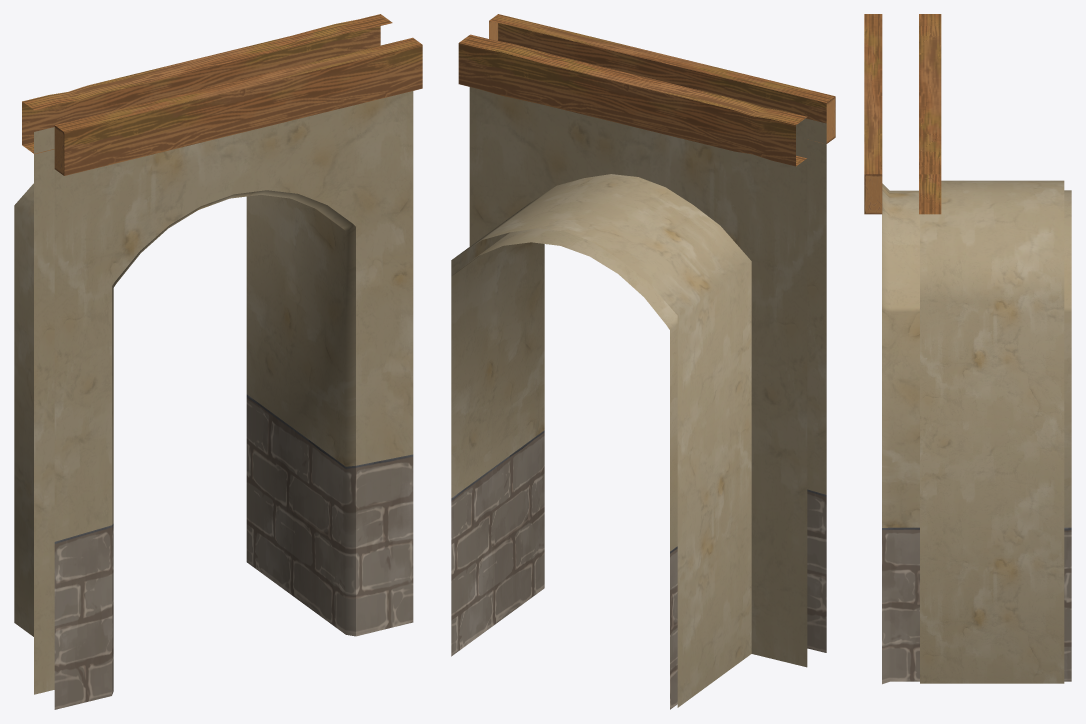
File: Wall_Plaster_Door_RoundInset.obj
The picture shows the model from 3 angles, left to right: view 1: azimuth 30°, elevation 25°; view 2: azimuth 150°, elevation 25°; view 3: azimuth 270°, elevation 25°; orthographic projection. The views are drawn at different scales.
Parts seen in each view (by area): view 1: Wall_Plaster_Door_RoundInset; view 2: Wall_Plaster_Door_RoundInset; view 3: Wall_Plaster_Door_RoundInset.
Part boxes in pixels (box(x1,y1,x2,y2)): Wall_Plaster_Door_RoundInset: box(14, 14, 422, 709); Wall_Plaster_Door_RoundInset: box(451, 14, 835, 709); Wall_Plaster_Door_RoundInset: box(864, 14, 1071, 684).
Size of the model in its own units: 2 by 3.12 by 1.09.
